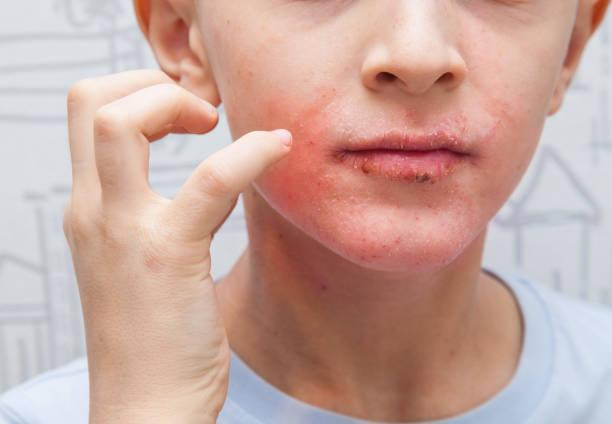Dry-Skin: (303, 126, 407, 242), (376, 24, 498, 102), (212, 49, 297, 150), (279, 27, 331, 101), (532, 33, 562, 99), (451, 101, 480, 163), (498, 51, 522, 109), (443, 204, 476, 241), (500, 137, 520, 192)
